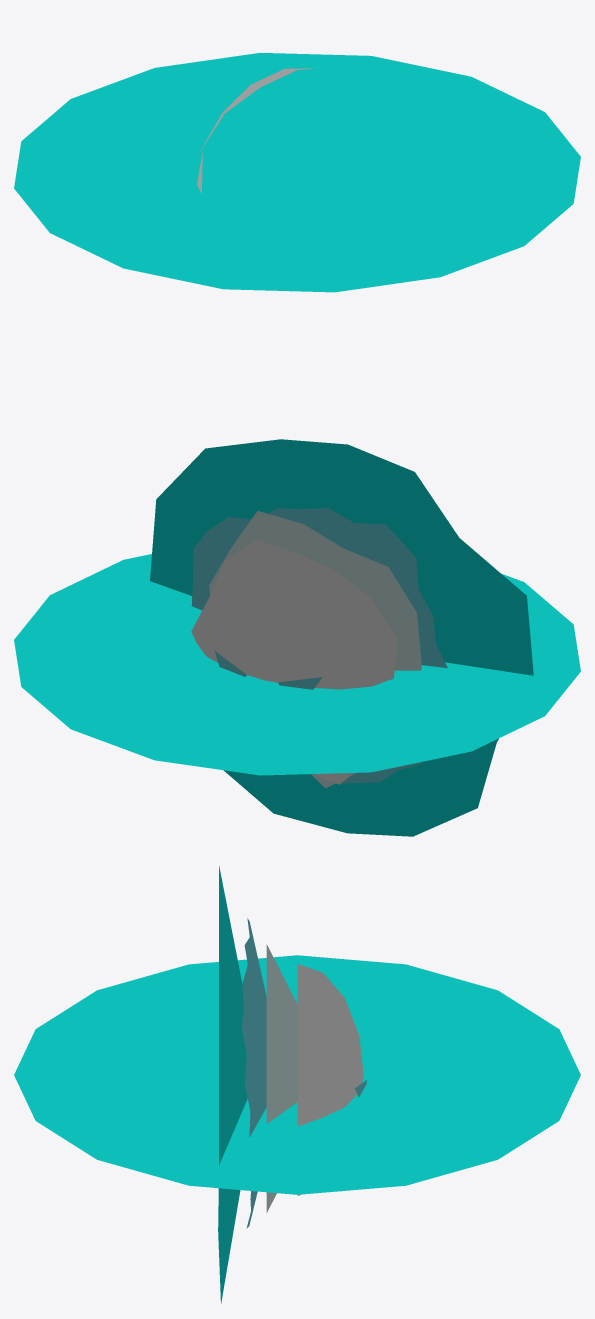
The model's file is obstacle-wisp_H1M_NoAtlas.glb.
The picture shows the model from 3 angles, top to bottom: view 1: azimuth 30°, elevation 25°; view 2: azimuth 150°, elevation 25°; view 3: azimuth 270°, elevation 25°; orthographic projection.
Visible parts, largest first — view 1: obstacle-wisp_ground_glow, obstacle-wisp_H1M; view 2: obstacle-wisp_ground_glow, obstacle-wisp_glow, obstacle-wisp_H1M, obstacle-wisp_layer2, obstacle-wisp_layer1; view 3: obstacle-wisp_ground_glow, obstacle-wisp_H1M, obstacle-wisp_glow, obstacle-wisp_layer1, obstacle-wisp_layer2.
Boxes of the visible parts, x1=… form: obstacle-wisp_ground_glow: x1=14, y1=52, x2=580, y2=292; obstacle-wisp_H1M: x1=197, y1=68, x2=317, y2=193; obstacle-wisp_ground_glow: x1=14, y1=554, x2=580, y2=775; obstacle-wisp_glow: x1=150, y1=439, x2=533, y2=836; obstacle-wisp_H1M: x1=191, y1=539, x2=397, y2=784; obstacle-wisp_layer2: x1=191, y1=508, x2=447, y2=783; obstacle-wisp_layer1: x1=209, y1=511, x2=421, y2=788; obstacle-wisp_ground_glow: x1=14, y1=955, x2=580, y2=1194; obstacle-wisp_H1M: x1=297, y1=964, x2=366, y2=1195; obstacle-wisp_glow: x1=218, y1=866, x2=247, y2=1303; obstacle-wisp_layer1: x1=266, y1=944, x2=297, y2=1212; obstacle-wisp_layer2: x1=242, y1=918, x2=266, y2=1228.
Size of the model in its own units: 4.13 by 3.1 by 4.13.
